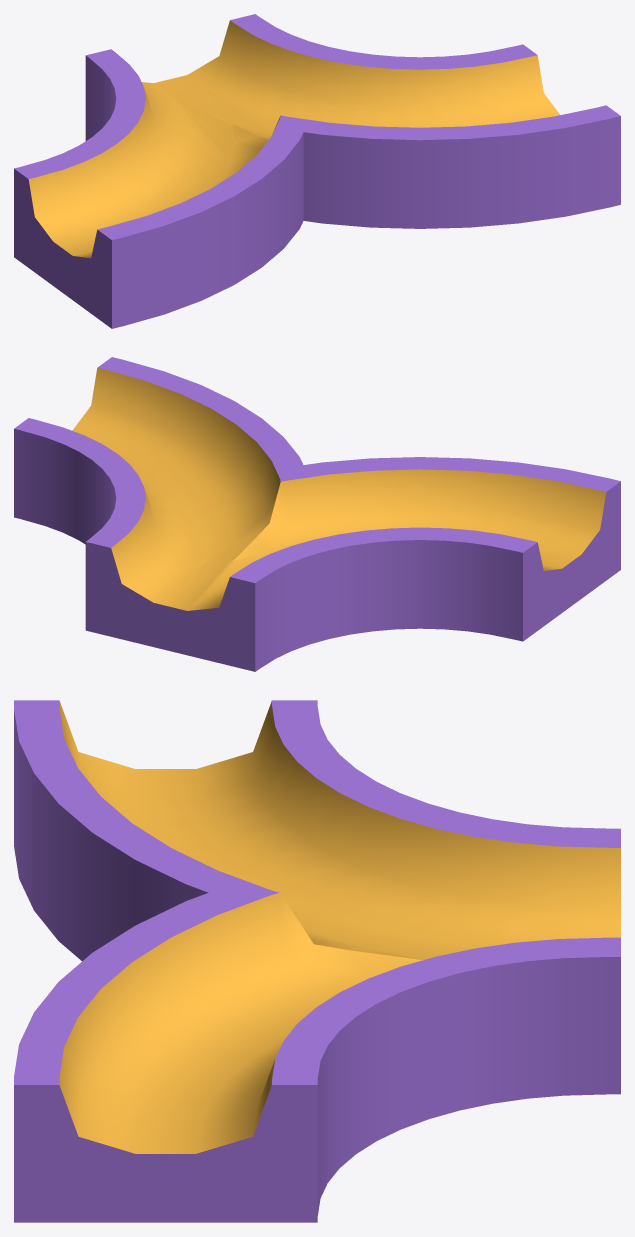
The model's file is split-double-sides.glb.
The picture shows the model from 3 angles, top to bottom: view 1: azimuth 30°, elevation 25°; view 2: azimuth 150°, elevation 25°; view 3: azimuth 270°, elevation 25°; orthographic projection. The views are drawn at different scales.
Visible parts, largest first — view 1: split-double-sides; view 2: split-double-sides; view 3: split-double-sides.
Part boxes in pixels (<box>): split-double-sides: <box>14,14,620,328</box>; split-double-sides: <box>14,357,620,671</box>; split-double-sides: <box>14,700,620,1222</box>.
Bounding box in the file's own units: 3 × 0.4999 × 2.
Materials: 1 (1 with a texture image).
